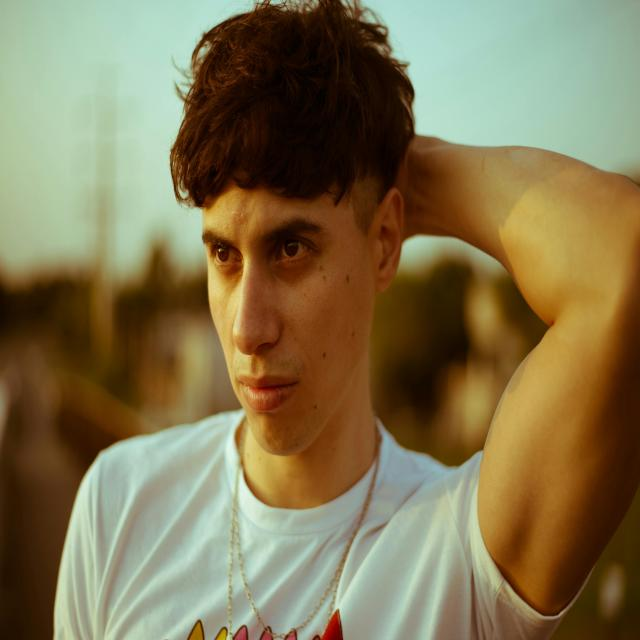human: (48, 17, 640, 640)
